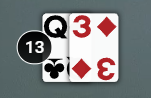3: (68, 11, 95, 41)
q: (41, 12, 70, 42)
